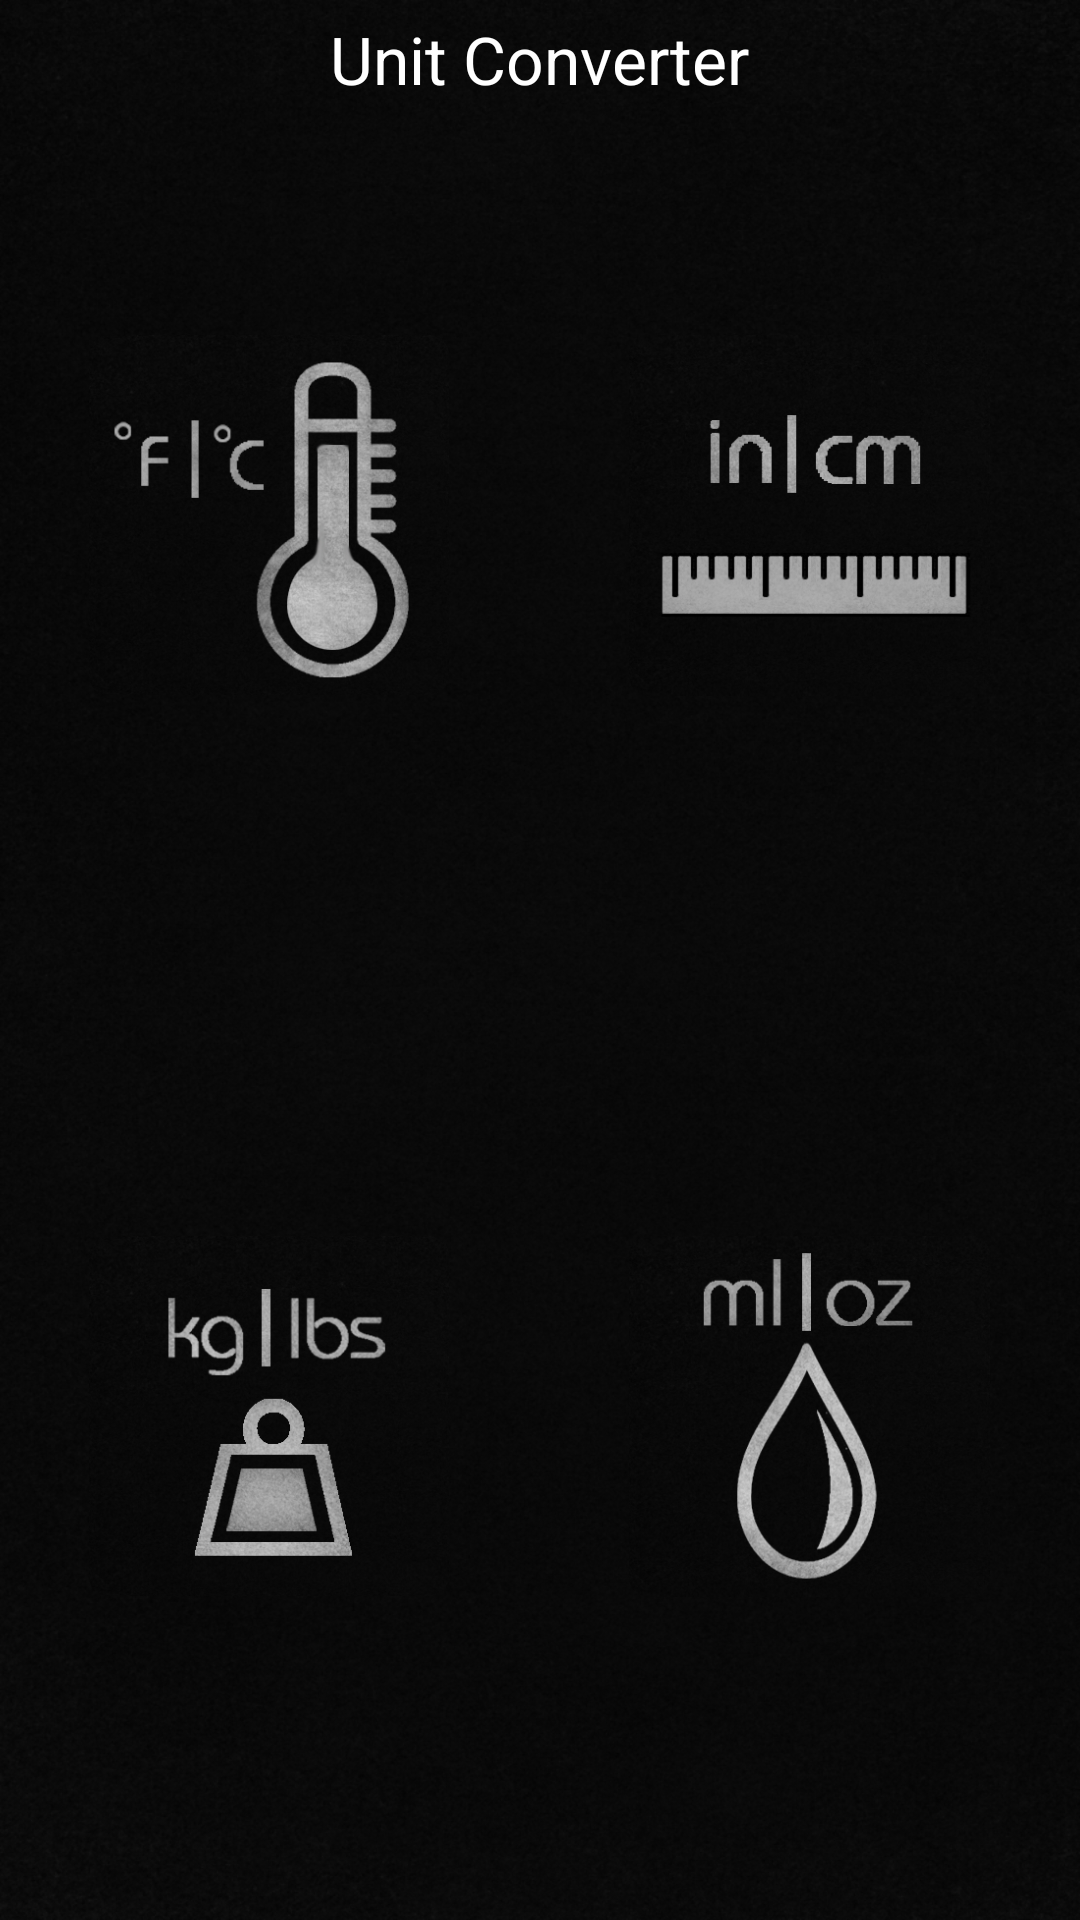

Icon bounding boxes for this 1080*1920 phone screenshot, format (x1, y1, x2, y2):
distance: (662, 415, 967, 614)
mass: (168, 1289, 386, 1556)
tempreature: (114, 362, 409, 678)
water: (703, 1253, 913, 1579)
